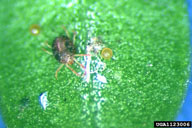Mites: (48, 31, 79, 85)
